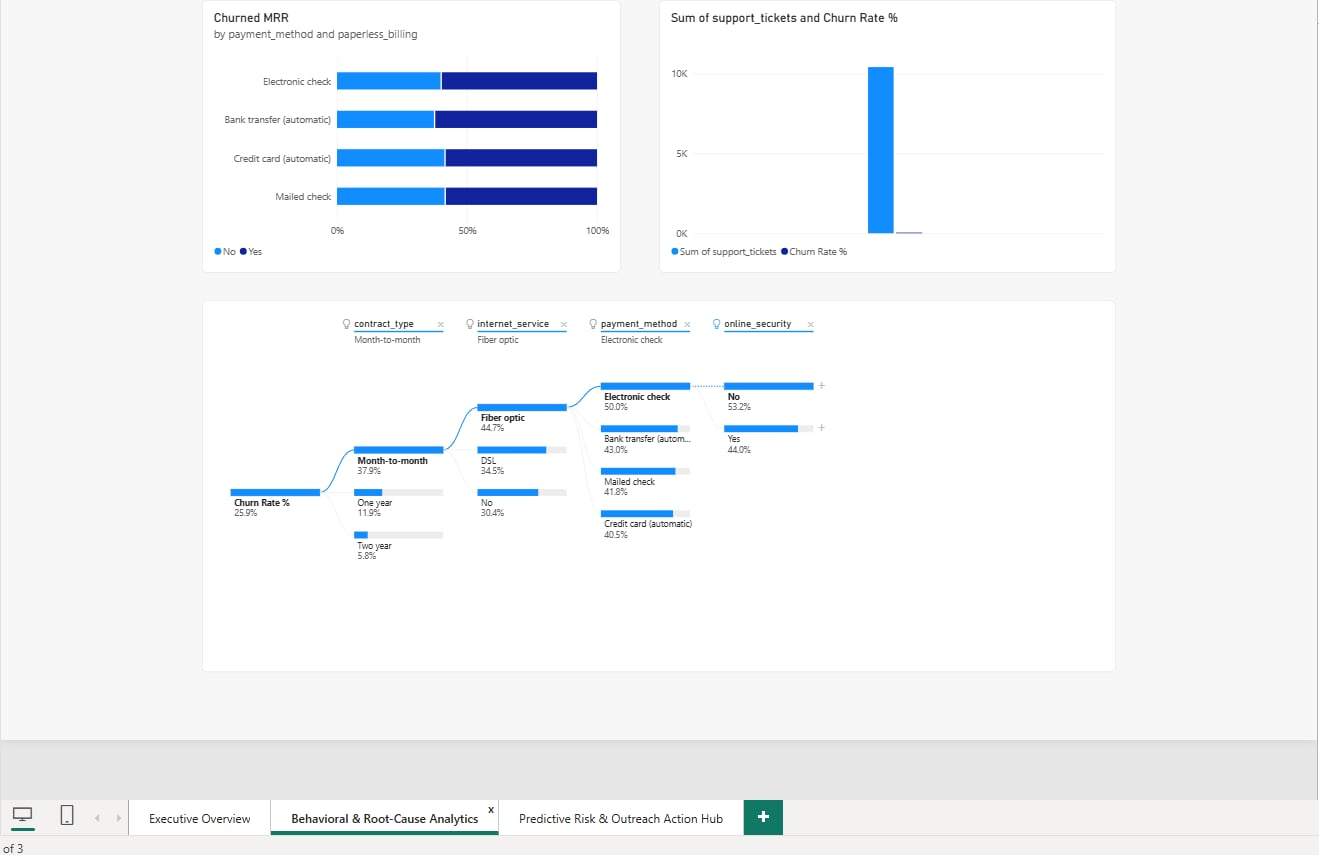

What the dashboard file says about the page in this screenshot:
{"tool":"powerbi","page":{"name":"Behavioral & Root-Cause Analytics","canvas":[1920,1080],"ordinal":1},"visuals":[{"type":"decompositionTreeVisual","fields":{"Analyze":["_AllMeasures.Churn Rate %"],"ExplainBy":["telecom_customer_churn_with_predictions.contract_type","telecom_customer_churn_with_predictions.internet_service","telecom_customer_churn_with_predictions.payment_method","telecom_customer_churn_with_predictions.online_security","telecom_customer_churn_with_predictions.tech_support"]},"box":[293.3,437.7,1333.5,542.7],"z":0},{"type":"hundredPercentStackedBarChart","fields":{"Category":["telecom_customer_churn_with_predictions.payment_method"],"Series":["telecom_customer_churn_with_predictions.paperless_billing"],"Y":["_AllMeasures.Churned MRR"]},"box":[293.3,0,611.3,398.3],"z":1000},{"type":"clusteredColumnChart","fields":{"Y":["Sum(telecom_customer_churn_with_predictions.support_tickets)","_AllMeasures.Churn Rate %"]},"box":[960,0,666.7,398.3],"z":2000}]}

Visuals, with their boxes on the page's 1920x1080 design canvas (x1, y1, x2, y2). These are canvas units, not pixel positions in the 1319x855 screenshot, which may show the page scaled, cropped or inside an application window:
decompositionTreeVisual - _AllMeasures.Churn Rate % x telecom_customer_churn_with_predictions.contract_type: locate(293, 438, 1627, 980)
hundredPercentStackedBarChart - telecom_customer_churn_with_predictions.payment_method x telecom_customer_churn_with_predictions.paperless_billing: locate(293, 0, 905, 398)
clusteredColumnChart - Sum(telecom_customer_churn_with_predictions.support_tickets) x _AllMeasures.Churn Rate %: locate(960, 0, 1627, 398)
